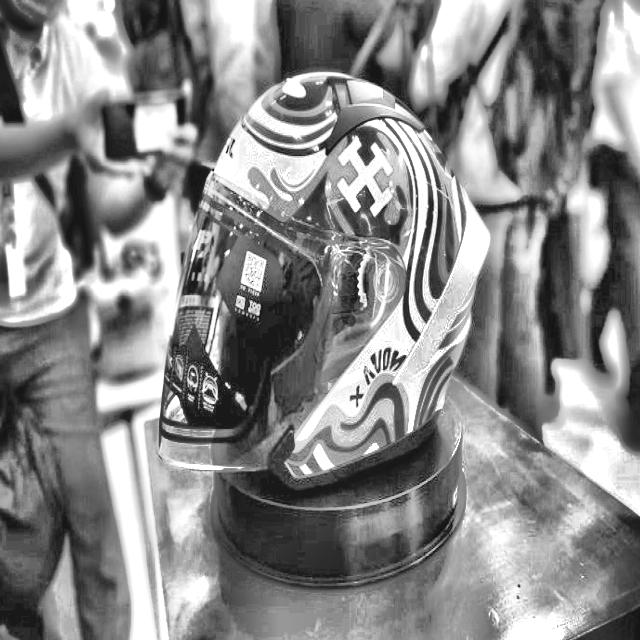Helmet: (152, 57, 498, 473)
